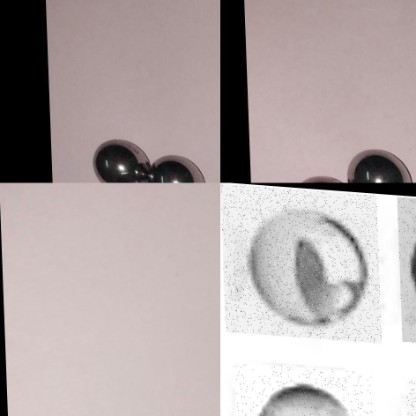ironball: (220, 183, 379, 340), (231, 361, 374, 415), (89, 140, 151, 185), (346, 149, 411, 185), (144, 151, 209, 186)
